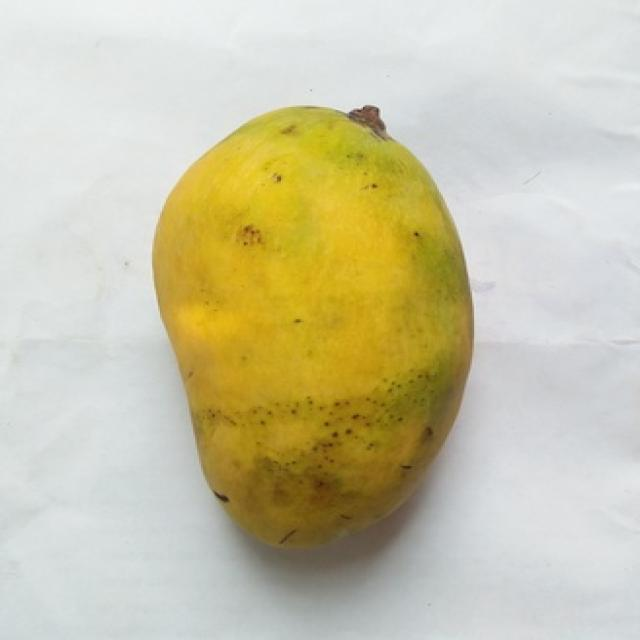Mango: (154, 107, 472, 544)
